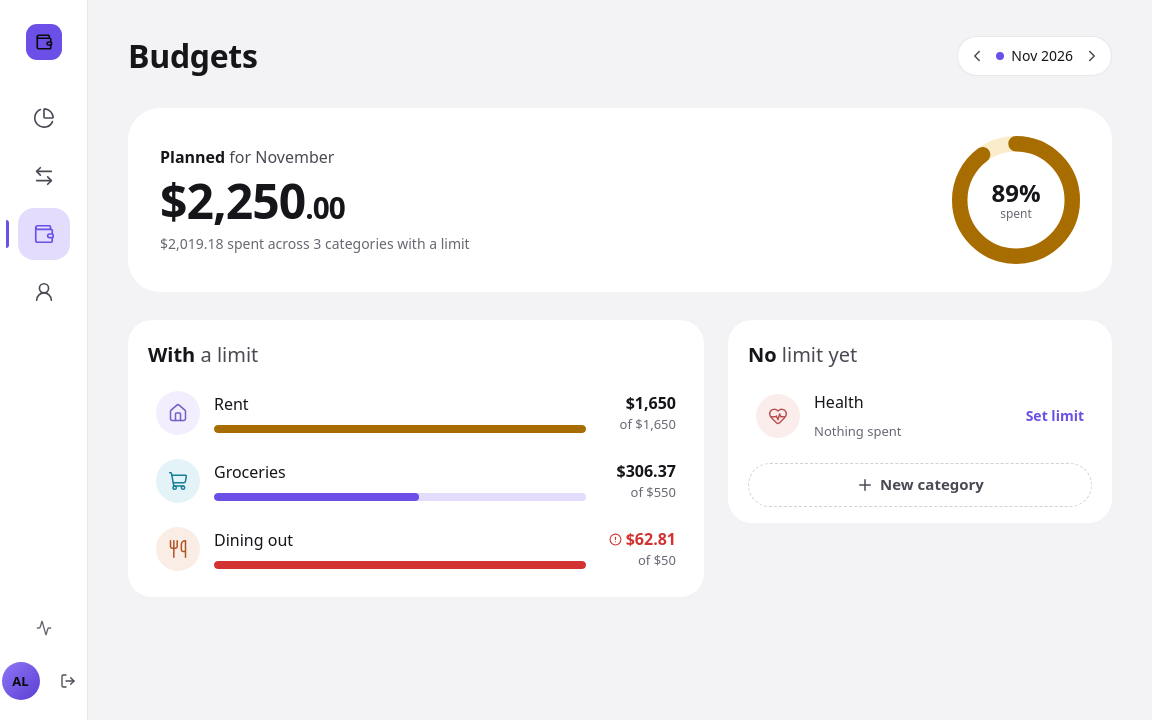
setting a limit sends the category, the month and the limit in cents
expect the element "Planned for November" is shown: met, box 128,108 -> 1112,292
Click the button with aria-label "Health:": (778, 416) 748,381 -> 1092,451
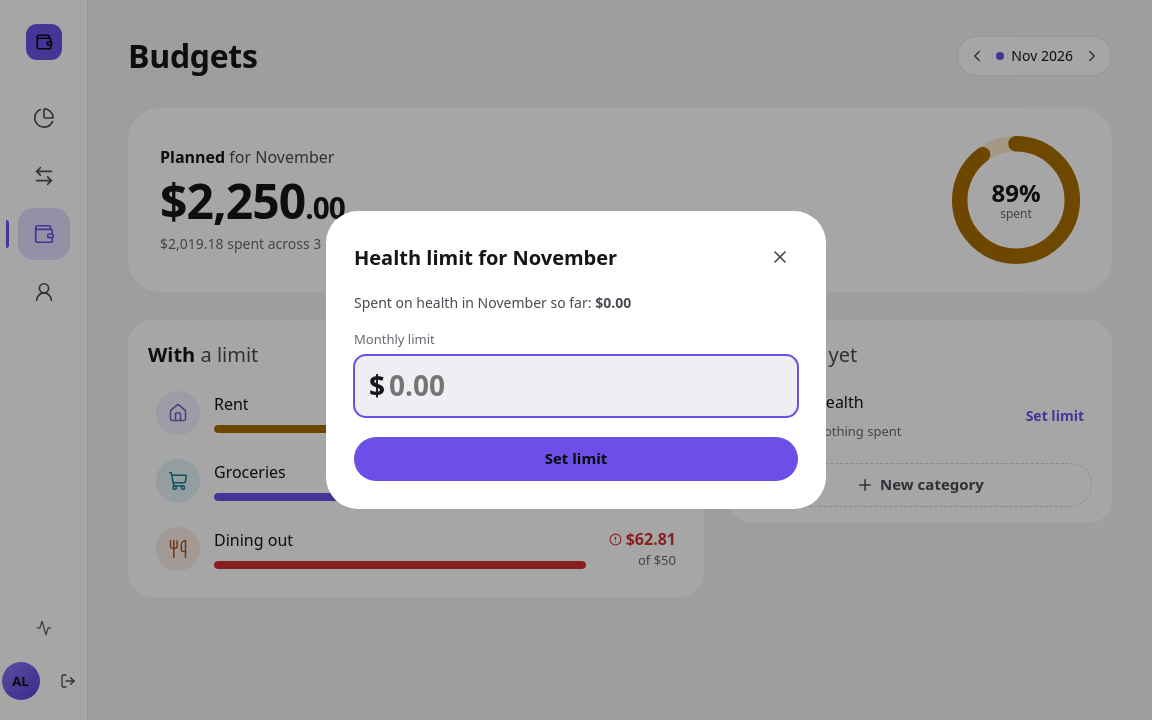
expect the dialog "Health limit for November" is shown: met, box 326,211 -> 826,508
In the field labelled "Monthly limit": (593, 386) 389,356 -> 797,416, type "80"
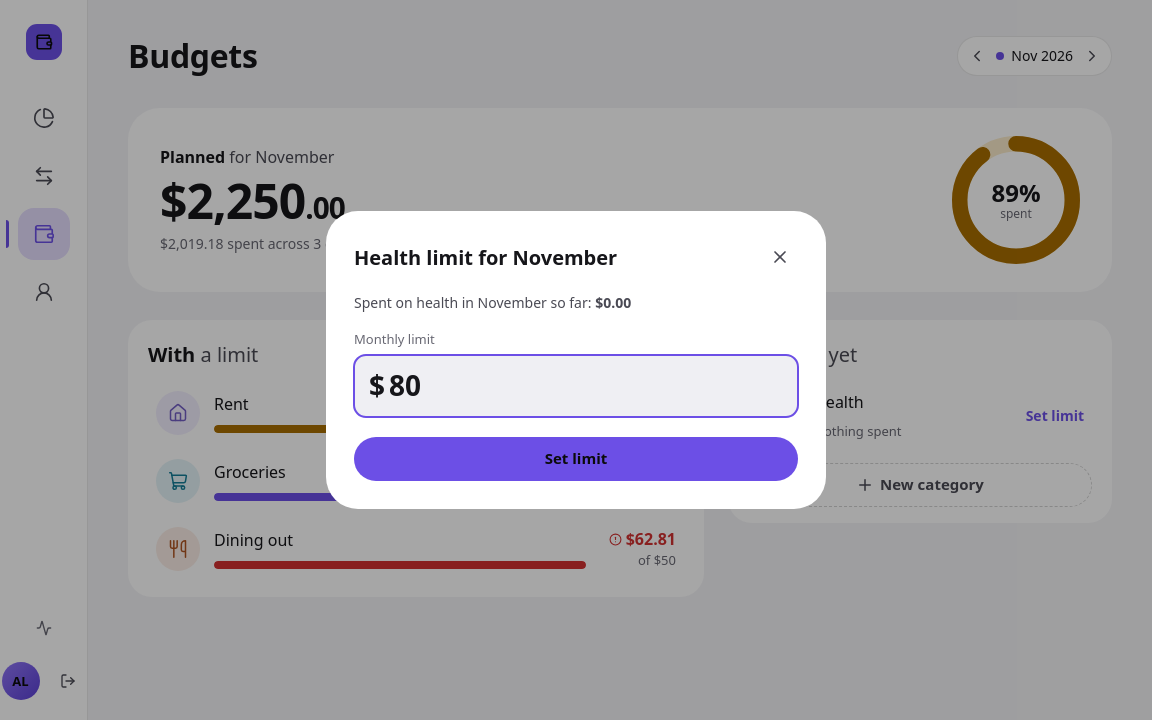
Click the button "Set limit": (576, 459) 354,437 -> 798,481
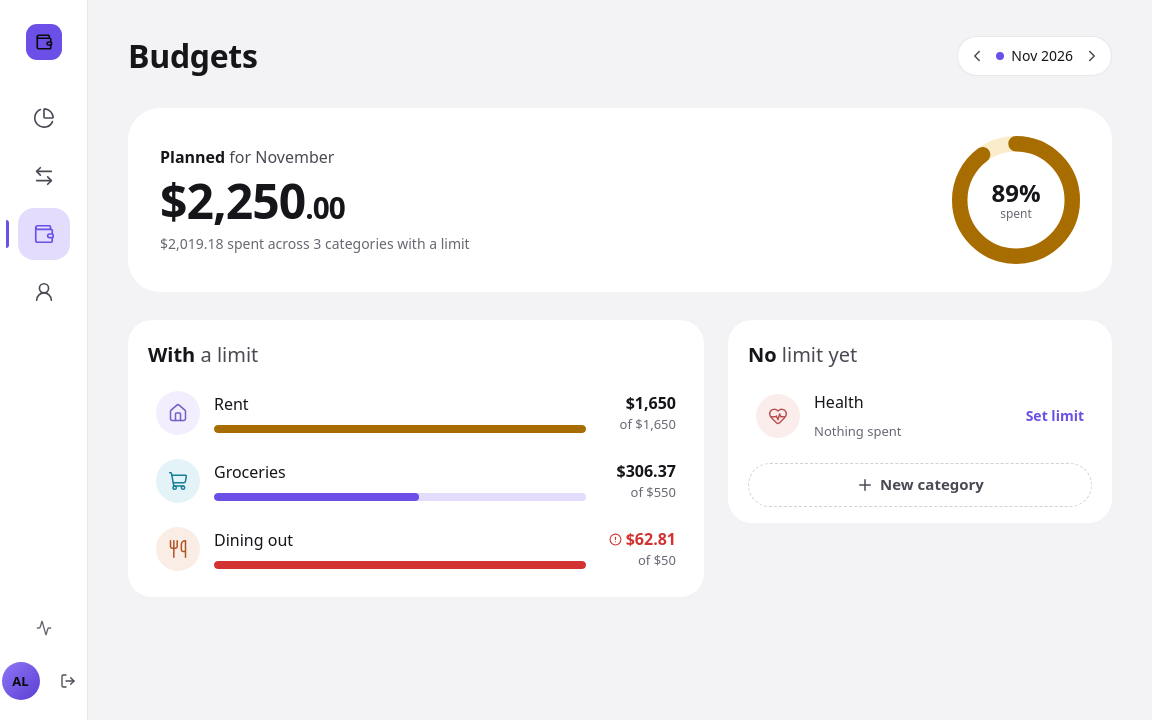
expect the dialog is gone: met
